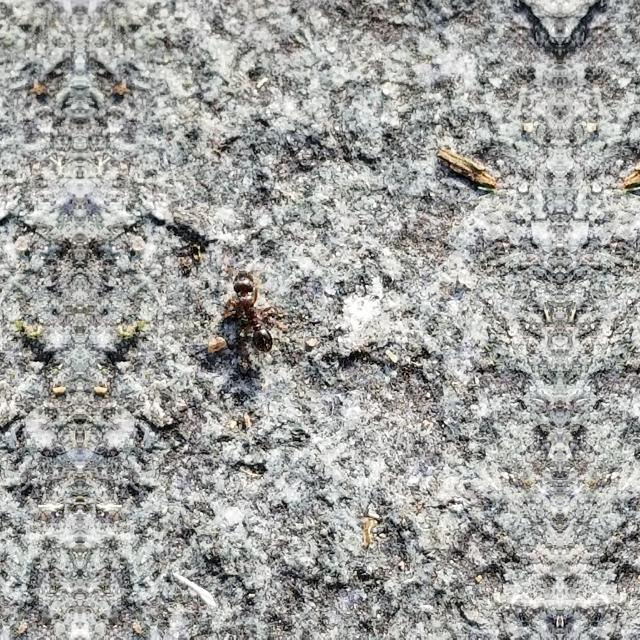Tetramorium: (210, 262, 292, 358)
